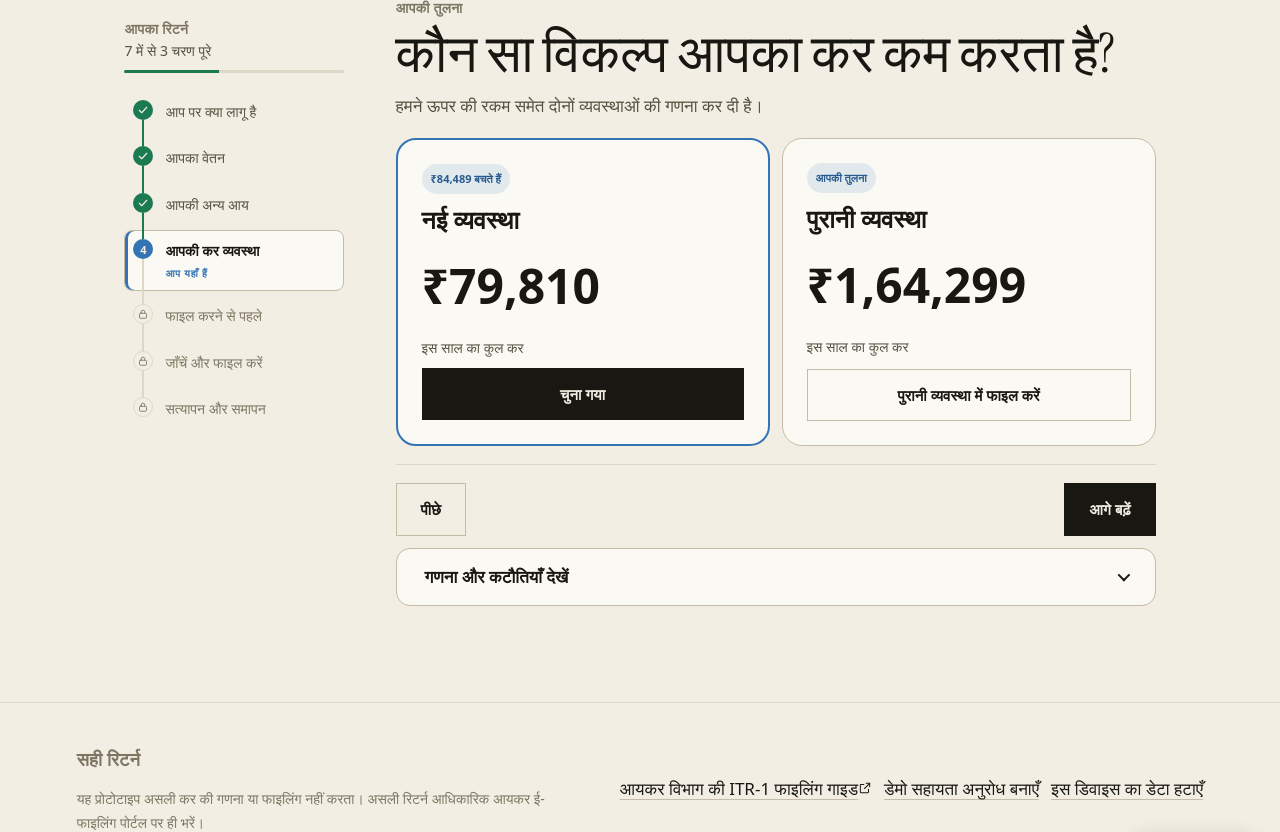
Scenario: Sahi Return salaried filing journey › keeps the regime comparison correct in Hindi
(page scrolled)
expect the heading "कौन सा विकल्प आपका कर कम करता है?" is shown: met, box [396,26,1156,83]
expect the text "₹84,489 बचते हैं" is shown: met, box [422,164,510,194]
Click the button "पीछे": click(431, 510) [396,484,466,536]
(page scrolled)
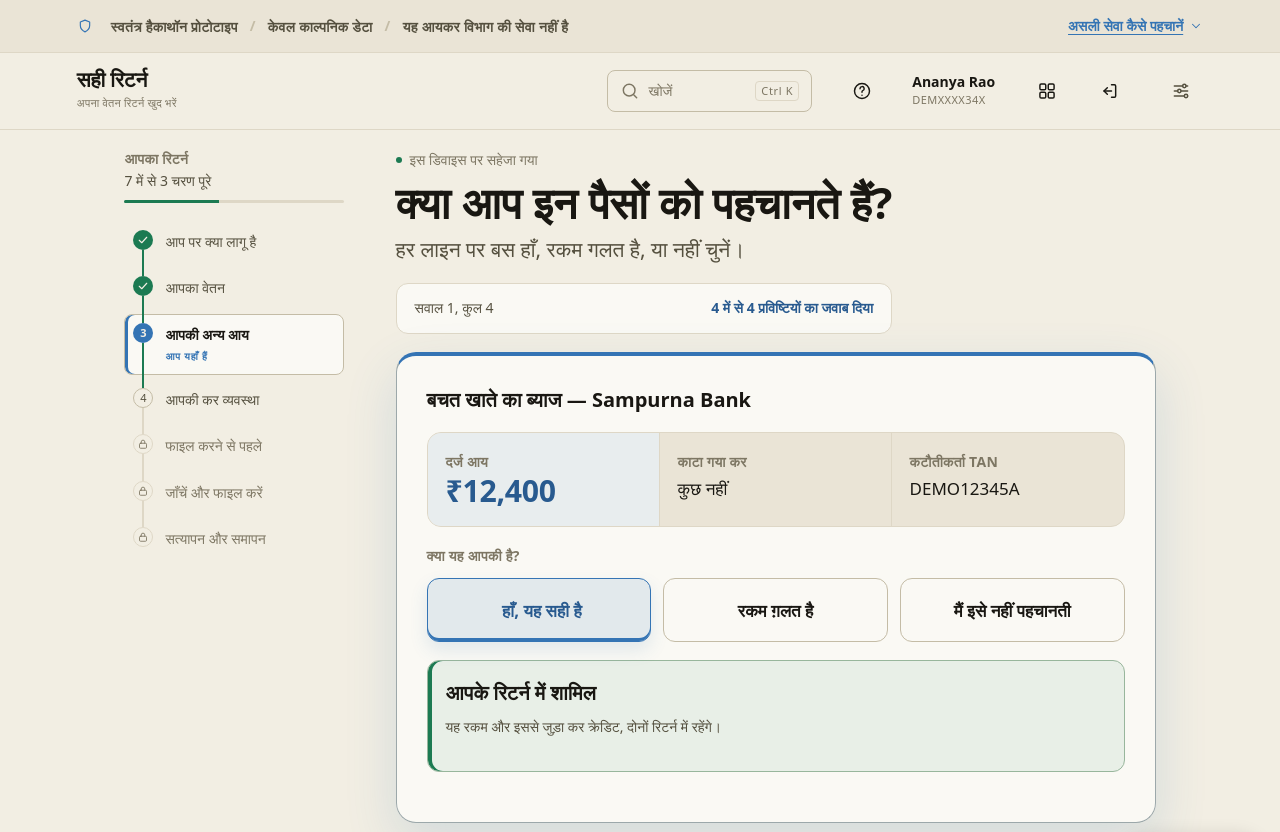
expect the heading "क्या आप इन पैसों को पहचानते हैं?" is shown: met, box [396,180,964,225]
